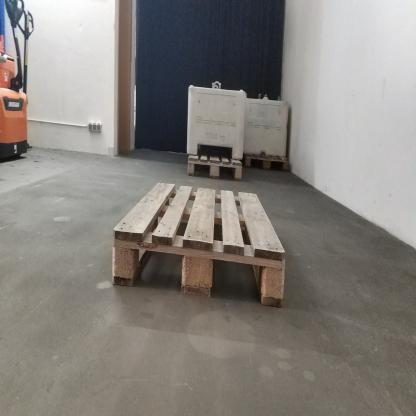BoxFace: (108, 177, 290, 311)
